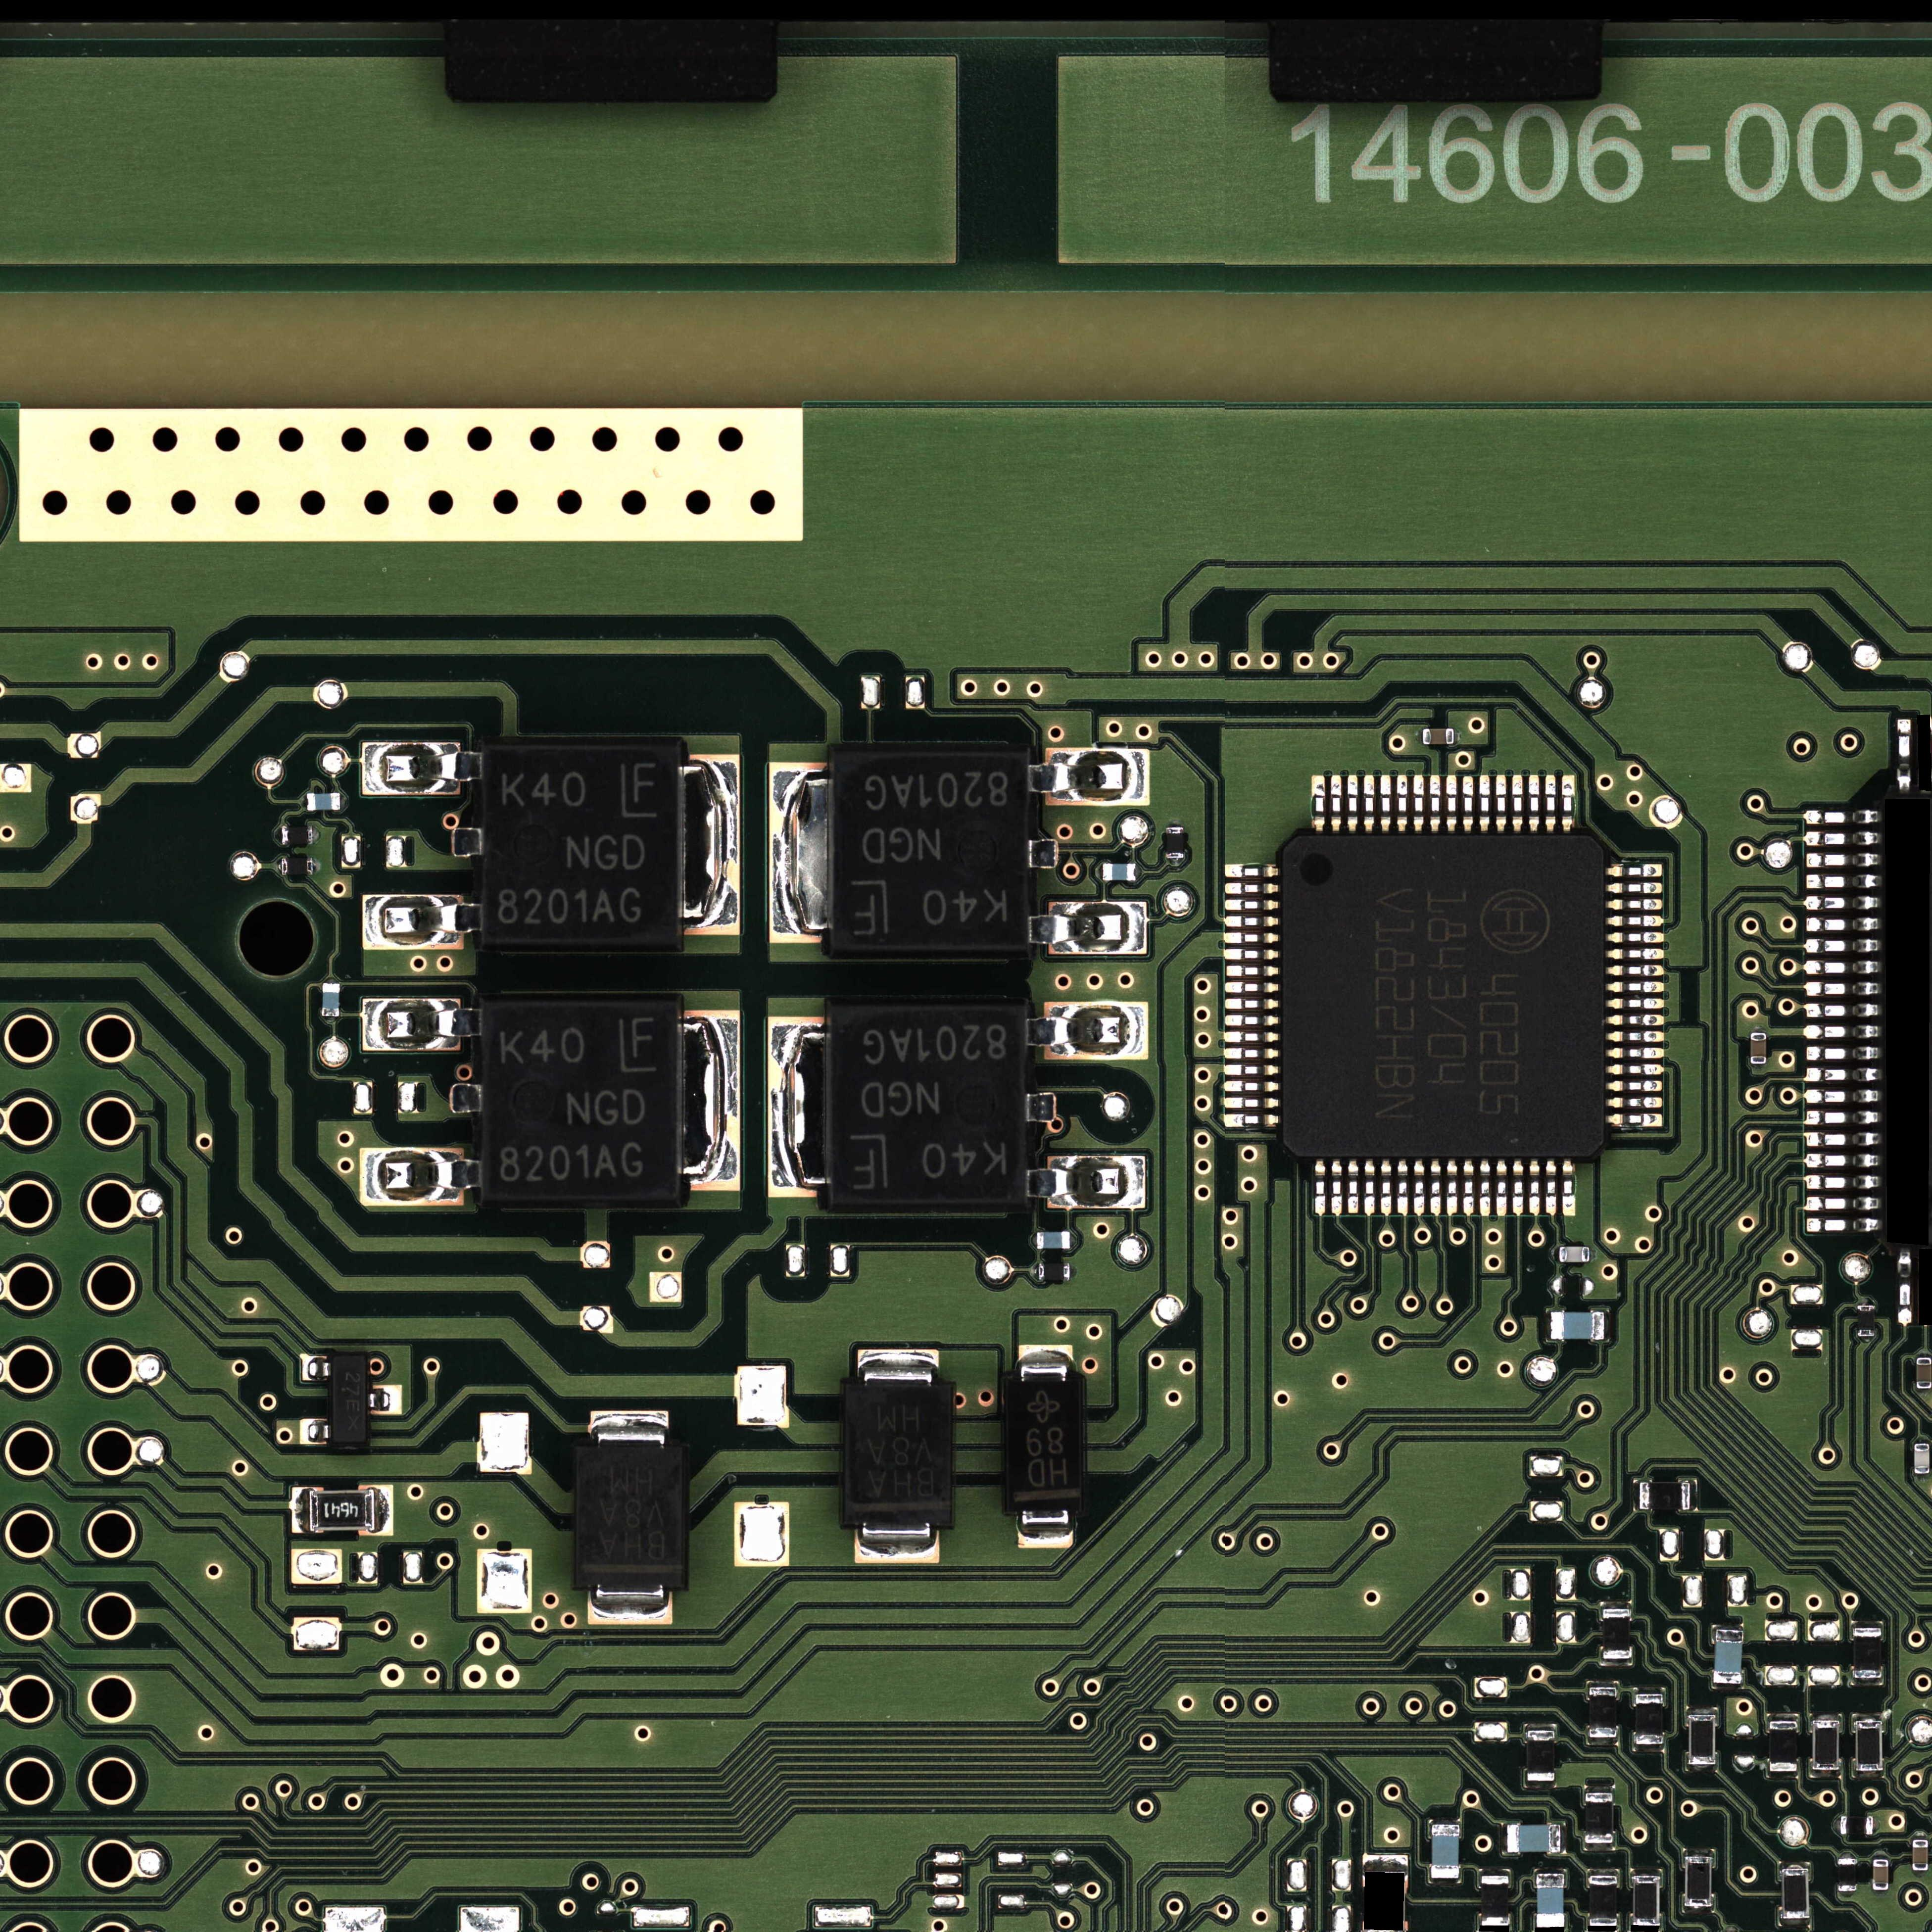Package: (1283, 835, 1603, 1159), (481, 747, 679, 941), (481, 1003, 679, 1198), (832, 752, 1030, 947), (830, 1008, 1026, 1203), (575, 1447, 685, 1585), (842, 1385, 952, 1523), (1005, 1380, 1083, 1511), (331, 1353, 366, 1445), (310, 1490, 373, 1530), (1550, 1311, 1605, 1339), (1507, 1824, 1560, 1852), (1714, 1629, 1743, 1683), (1536, 1874, 1564, 1927), (1431, 1824, 1460, 1877), (1585, 1792, 1614, 1844), (1769, 1721, 1798, 1771), (1589, 1688, 1617, 1737), (1527, 1730, 1555, 1780), (1481, 1875, 1509, 1925), (1635, 1695, 1663, 1744), (1589, 1875, 1617, 1925), (1603, 1610, 1631, 1658), (1782, 1868, 1808, 1918), (1640, 1483, 1690, 1509), (1854, 1628, 1881, 1677), (1633, 1877, 1660, 1925), (1686, 1856, 1711, 1905), (1856, 1721, 1881, 1771), (1690, 1714, 1714, 1764), (1813, 1721, 1838, 1769), (306, 793, 340, 810), (1102, 863, 1136, 881), (1840, 1817, 1874, 1835), (1838, 1858, 1856, 1891), (1037, 1231, 1070, 1249), (281, 826, 313, 844), (1039, 1263, 1070, 1281), (322, 984, 340, 1016), (1166, 828, 1184, 858), (1858, 1306, 1875, 1336), (281, 858, 313, 874), (1422, 729, 1454, 745), (1913, 1840, 1928, 1870), (1914, 1444, 1930, 1474), (1916, 1359, 1932, 1389), (1874, 1859, 1888, 1890), (1559, 1247, 1589, 1261), (1752, 1033, 1766, 1063)
Solder: (768, 761, 830, 943), (768, 1016, 830, 1198), (678, 755, 740, 936), (678, 1010, 740, 1191), (361, 1148, 481, 1207), (1028, 1001, 1146, 1060), (1031, 748, 1148, 805), (363, 741, 481, 796), (363, 895, 481, 950), (1030, 901, 1146, 955), (363, 998, 479, 1051), (1028, 1155, 1145, 1208), (855, 1523, 938, 1564), (587, 1585, 671, 1624), (858, 1348, 939, 1385), (589, 1410, 669, 1447), (1017, 1511, 1074, 1548), (1017, 1345, 1074, 1380), (1806, 1217, 1882, 1233), (1803, 938, 1879, 954), (1805, 1088, 1879, 1104), (1805, 1024, 1879, 1040), (1806, 916, 1879, 932), (1805, 874, 1877, 890), (1805, 1175, 1881, 1189), (1803, 1069, 1879, 1083), (1805, 1003, 1881, 1017), (1803, 961, 1879, 975), (1803, 832, 1879, 846), (1806, 1196, 1881, 1210), (1805, 1154, 1879, 1168), (1805, 1111, 1879, 1125), (1805, 1132, 1879, 1146), (1805, 853, 1879, 867), (1805, 982, 1879, 996), (1803, 895, 1877, 909), (1805, 810, 1879, 824), (1897, 720, 1911, 794), (1806, 1046, 1879, 1060), (368, 1385, 402, 1415), (1898, 1249, 1911, 1325), (375, 1484, 393, 1534), (1224, 863, 1279, 879), (451, 1085, 481, 1113), (1605, 1113, 1663, 1127), (1223, 1113, 1279, 1127), (1223, 1063, 1279, 1077), (1223, 1079, 1279, 1093), (301, 1355, 331, 1382), (299, 1419, 331, 1444), (1364, 1854, 1408, 1872), (1224, 881, 1279, 895), (1224, 1014, 1279, 1028), (1224, 980, 1279, 994), (1224, 1030, 1279, 1044), (1224, 964, 1279, 978), (1606, 863, 1661, 878), (453, 828, 481, 855), (1030, 840, 1058, 867), (1028, 1093, 1056, 1120), (1605, 1014, 1665, 1026), (1605, 980, 1665, 993), (1605, 964, 1665, 977), (292, 1486, 308, 1532), (1313, 775, 1325, 833), (1346, 775, 1359, 833), (1362, 775, 1375, 833), (1380, 775, 1392, 833), (1330, 775, 1343, 833), (1396, 775, 1408, 833), (1430, 775, 1442, 833), (1445, 775, 1458, 833), (1495, 775, 1507, 833), (1562, 775, 1575, 833), (1605, 1030, 1663, 1042), (1605, 1063, 1663, 1076), (1605, 1079, 1663, 1092), (1445, 1159, 1458, 1217), (1479, 1159, 1491, 1217), (1495, 1159, 1507, 1217), (1562, 1159, 1575, 1217), (1223, 1047, 1279, 1060), (1223, 1097, 1279, 1109), (1414, 1161, 1426, 1217), (1430, 1161, 1442, 1217), (1606, 915, 1663, 927), (1545, 1159, 1557, 1215), (1529, 1159, 1541, 1215), (1224, 915, 1279, 927), (1224, 932, 1279, 945), (1224, 948, 1279, 961), (1224, 899, 1279, 911), (1364, 1161, 1376, 1215), (1380, 1161, 1392, 1215), (1330, 1161, 1343, 1215), (1396, 1161, 1408, 1215), (1224, 998, 1279, 1010), (1346, 1161, 1359, 1215), (1606, 881, 1661, 893), (1606, 899, 1661, 911), (1414, 775, 1424, 833), (1315, 1159, 1325, 1217), (1606, 948, 1665, 959), (1606, 932, 1665, 943), (1479, 775, 1490, 833), (1463, 775, 1474, 833), (1545, 775, 1555, 833), (1529, 775, 1539, 833), (1513, 775, 1523, 833), (1605, 1047, 1663, 1058), (1605, 998, 1663, 1008), (1463, 1159, 1474, 1217), (1605, 1097, 1663, 1108), (1513, 1159, 1523, 1217), (1780, 1859, 1810, 1868), (1587, 1867, 1617, 1875), (1684, 1847, 1713, 1856), (1631, 1867, 1660, 1875), (1635, 1686, 1663, 1695), (1688, 1707, 1716, 1716), (1780, 1918, 1808, 1927), (1603, 1309, 1610, 1341), (1711, 1683, 1743, 1690), (1690, 1479, 1697, 1511), (1633, 1479, 1640, 1511), (1852, 1621, 1882, 1628), (1479, 1868, 1509, 1875), (1852, 1679, 1882, 1686), (1713, 1624, 1743, 1631), (1536, 1867, 1566, 1874), (1769, 1714, 1798, 1721), (1684, 1907, 1713, 1914), (1527, 1782, 1555, 1789), (1688, 1764, 1716, 1771), (1635, 1744, 1663, 1752), (1854, 1714, 1882, 1721), (1589, 1681, 1617, 1688), (1589, 1737, 1617, 1744), (1500, 1824, 1507, 1852), (1603, 1658, 1631, 1665), (1164, 819, 1185, 828), (1430, 1879, 1456, 1886), (1769, 1771, 1796, 1778), (1813, 1769, 1838, 1776), (1560, 1822, 1566, 1852), (340, 793, 349, 810), (1164, 858, 1185, 865), (1812, 1714, 1840, 1720), (1601, 1603, 1629, 1608), (1585, 1844, 1614, 1849), (1527, 1725, 1555, 1730), (1431, 1819, 1460, 1824), (313, 858, 322, 874), (1585, 1787, 1612, 1792), (1856, 1771, 1882, 1776), (274, 826, 281, 844), (313, 826, 320, 844), (1095, 863, 1102, 881), (1136, 863, 1143, 881), (1070, 1231, 1077, 1249), (1070, 1263, 1077, 1281), (1031, 1263, 1039, 1281), (1454, 727, 1461, 745), (1553, 1246, 1560, 1263), (322, 977, 340, 984), (322, 1017, 340, 1024), (1030, 1233, 1037, 1249), (1858, 1299, 1874, 1306), (1546, 1309, 1550, 1341), (1914, 1437, 1930, 1444), (276, 856, 281, 876), (1415, 729, 1422, 743), (1840, 1891, 1854, 1898), (301, 793, 306, 810), (1858, 1336, 1874, 1341), (1872, 1817, 1877, 1833), (1914, 1474, 1930, 1479), (1835, 1817, 1840, 1833), (1916, 1352, 1932, 1357), (1916, 1389, 1932, 1394), (1589, 1247, 1594, 1261), (1752, 1028, 1766, 1033), (1752, 1063, 1766, 1069), (1840, 1852, 1854, 1858), (1874, 1890, 1888, 1895), (1913, 1835, 1927, 1840), (1874, 1854, 1886, 1859), (1914, 1870, 1927, 1875)
